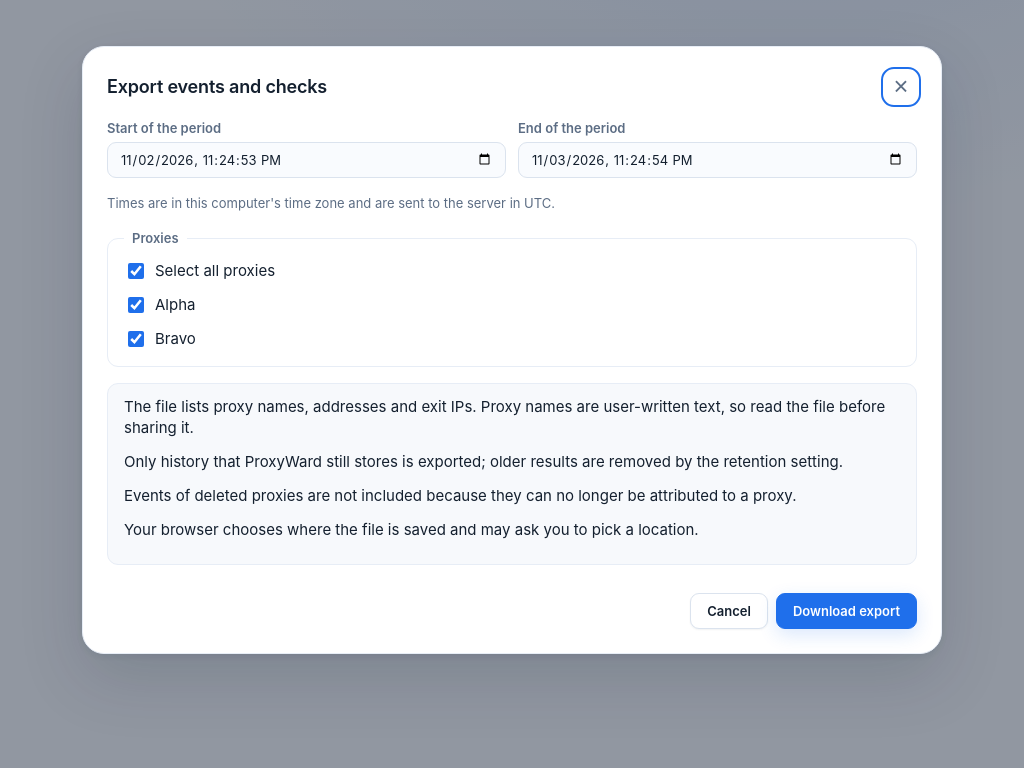
Test: ExportDialog › shows a server refusal instead of saving a file
Step 1. Click the button "Download export" → point(846, 611), box [776,593,917,629]
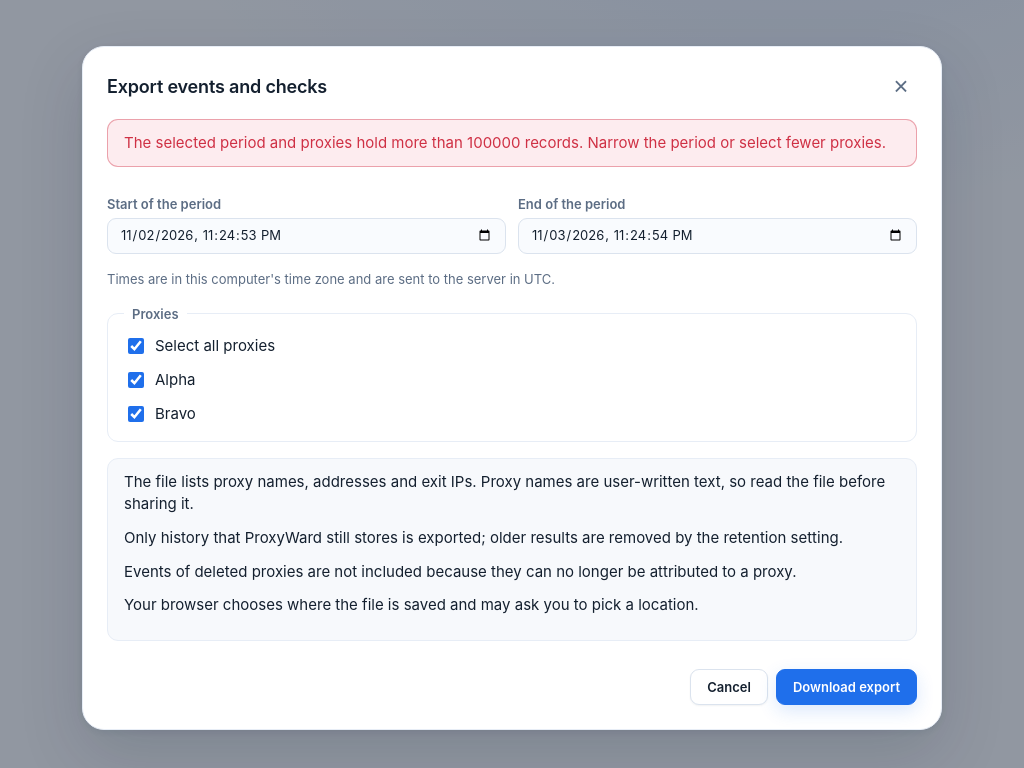
Check: the button "Download export" is enabled, box [776,669,917,705]
Check: the message shows "Narrow the period or select fewer proxies.", box [124,133,886,152]
